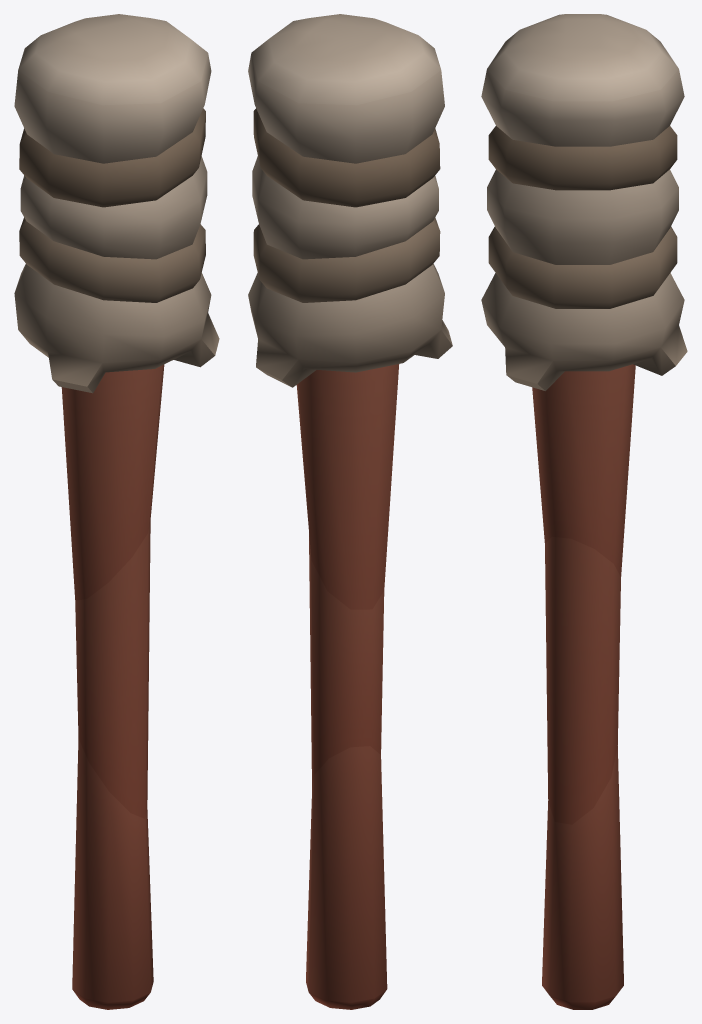
File: torch.obj
3 renders of one model, left to right at view 1: azimuth 30°, elevation 25°; view 2: azimuth 150°, elevation 25°; view 3: azimuth 270°, elevation 25°, orthographic.
Visible parts, largest first — view 1: torch; view 2: torch; view 3: torch.
Part boxes in pixels (<box>): torch: <box>14,14,219,1009</box>; torch: <box>248,14,452,1009</box>; torch: <box>481,14,687,1009</box>.
Bounding box in the file's own units: 0.2109 × 1.17 × 0.2254.
Materials: 1 (1 with a texture image).
